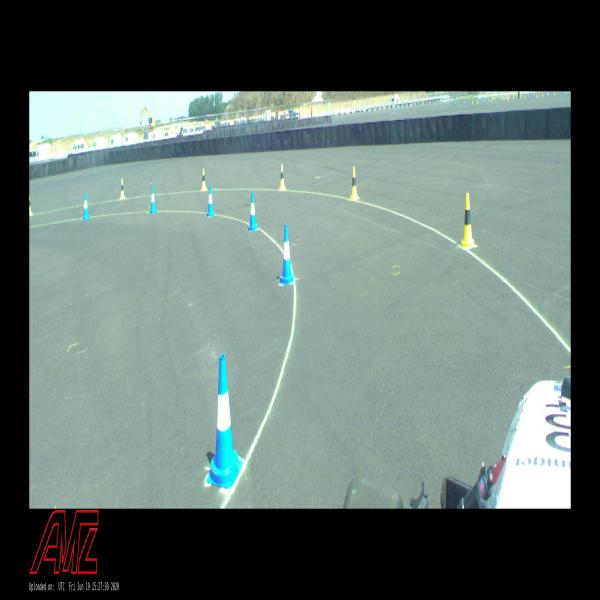blue_cone: (206, 353, 243, 488), (280, 224, 294, 284), (248, 192, 257, 231), (207, 184, 214, 216), (150, 186, 157, 213), (83, 194, 89, 219)
yellow_cone: (461, 193, 475, 248), (350, 167, 359, 200), (279, 164, 286, 190), (201, 168, 207, 191), (120, 178, 125, 200), (29, 194, 33, 216)
